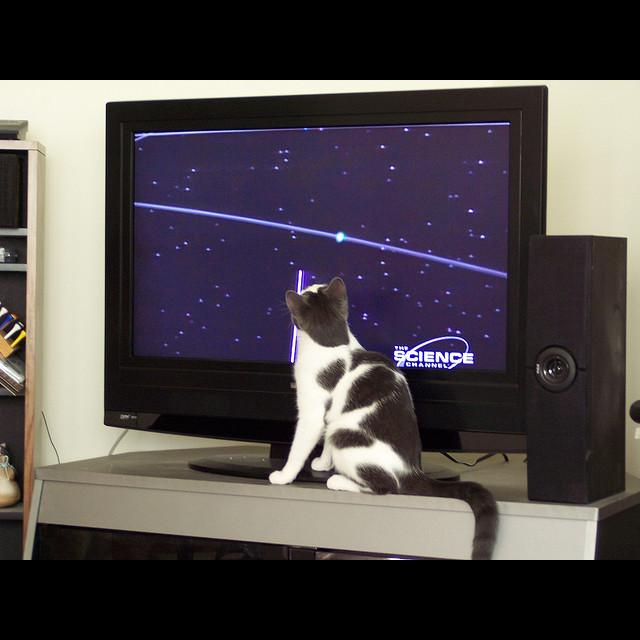Flat-Panel-TV: (102, 90, 549, 483)
